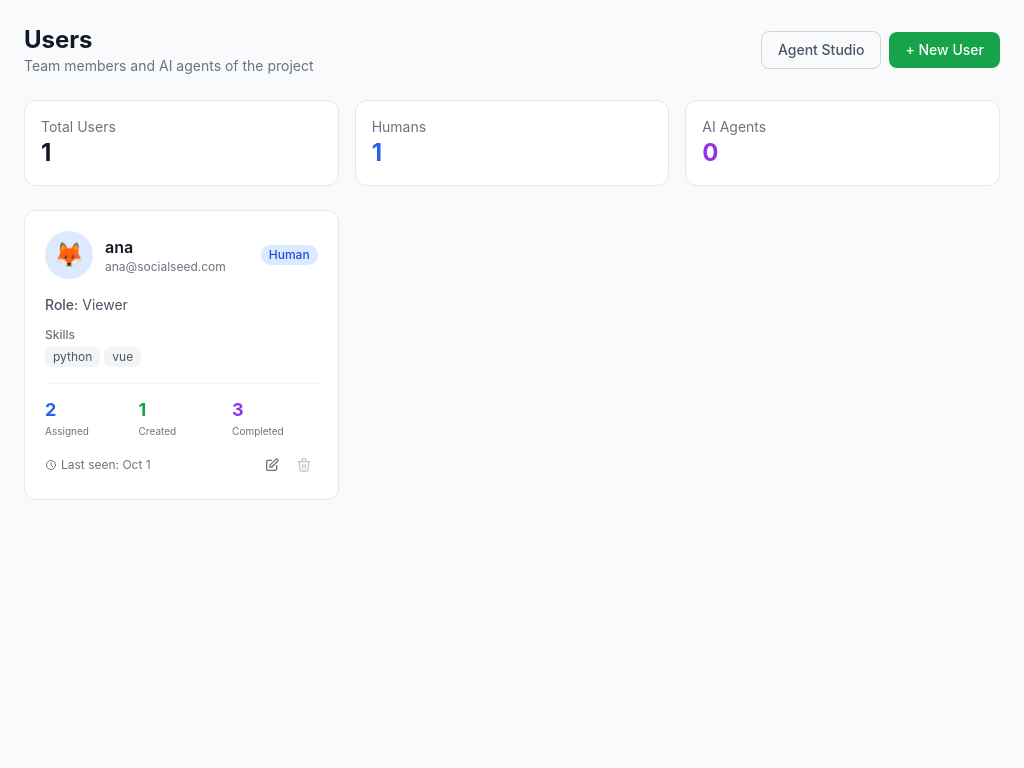
UsersView user issues (issue #570) › shows an error state with retry when /users/{id}/issues fails
Click the button "2 Assigned" at (88, 418), box [41,392,134,443]
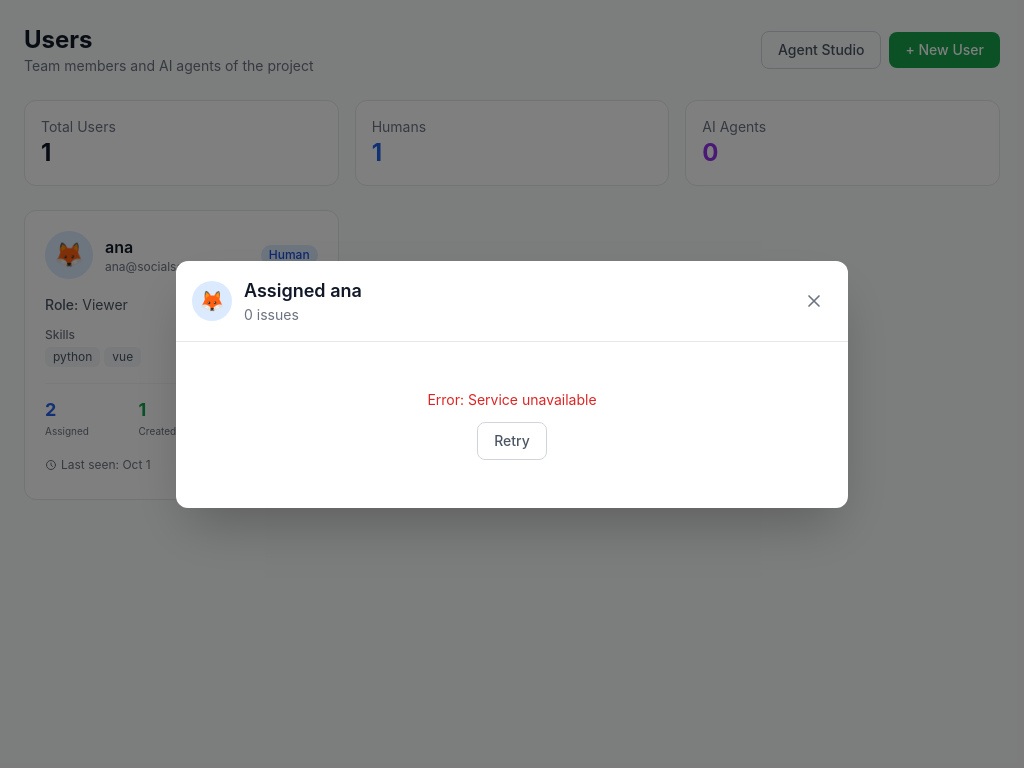
Result: the element with test id "issues-modal-error" is shown at [427,390,597,460]
Result: the text "Service unavailable" is shown at [427,390,597,408]
Click the button with test id "issues-modal-retry" at (512, 440), box [477,422,547,460]
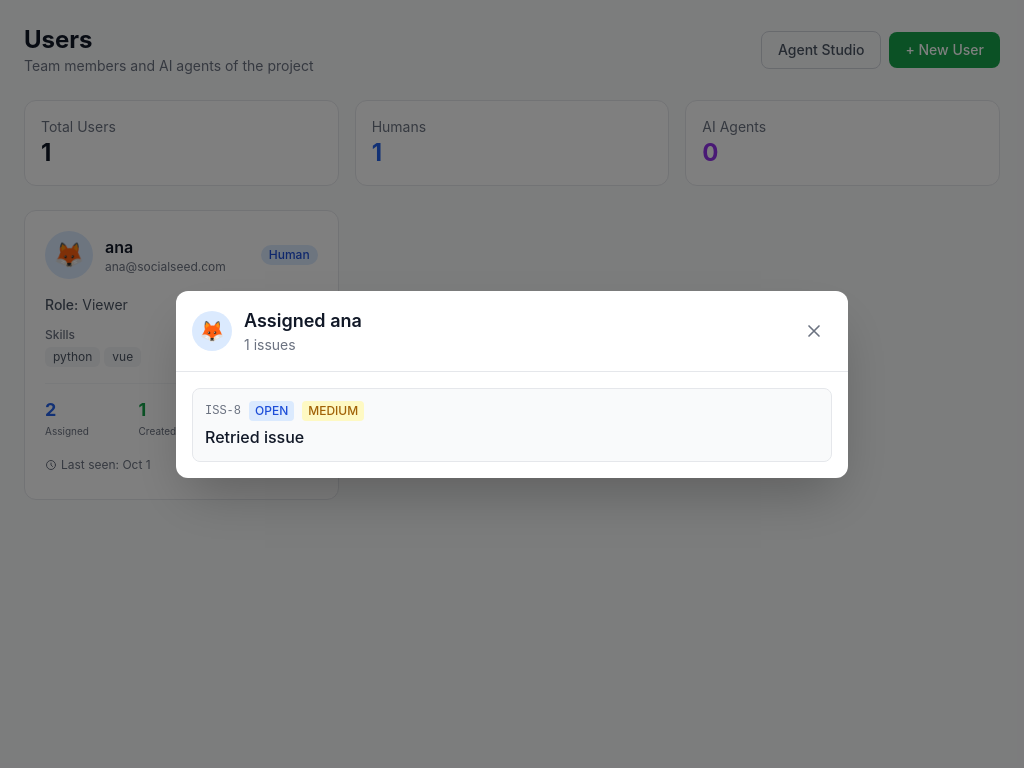
Result: the text "Retried issue" is shown at [205,426,304,446]
